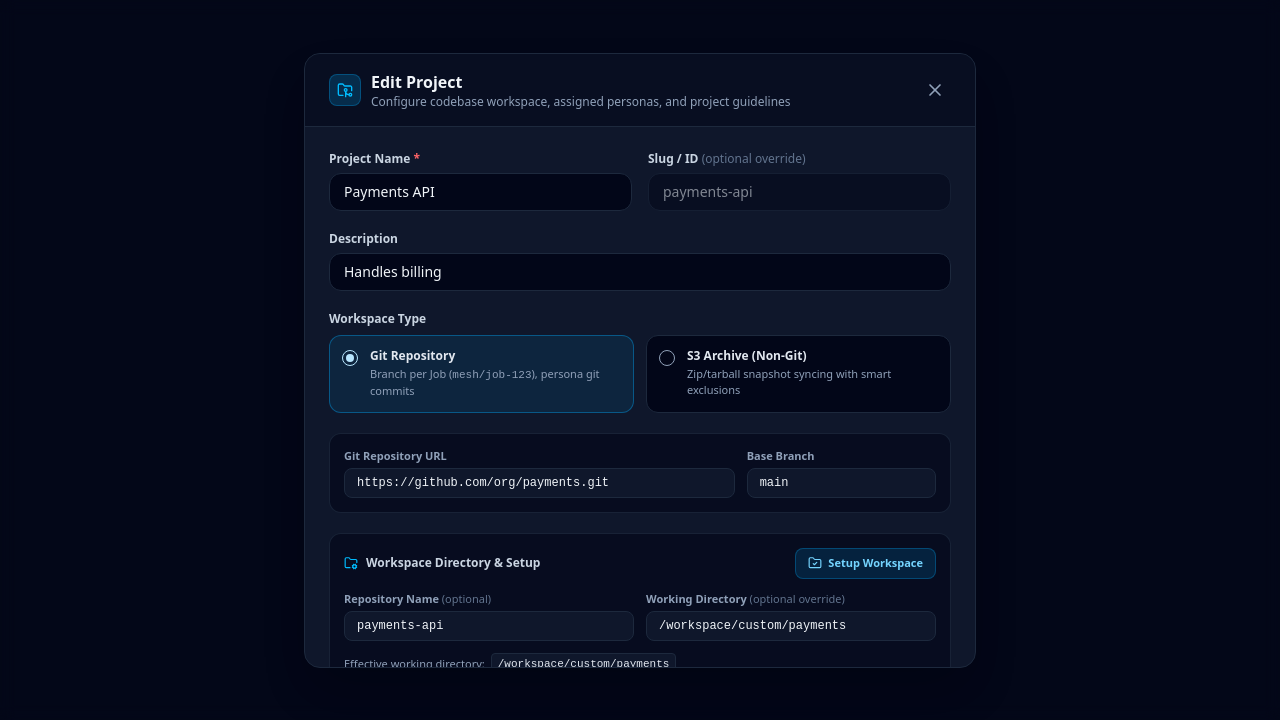
Test: ProjectModal workspace fields & setup action › runs setup workspace action for an existing project without submitting the form and displays result
Click the button with test id "setup-project-workspace-btn": click(866, 563) [795,548,936,578]
(page scrolled)
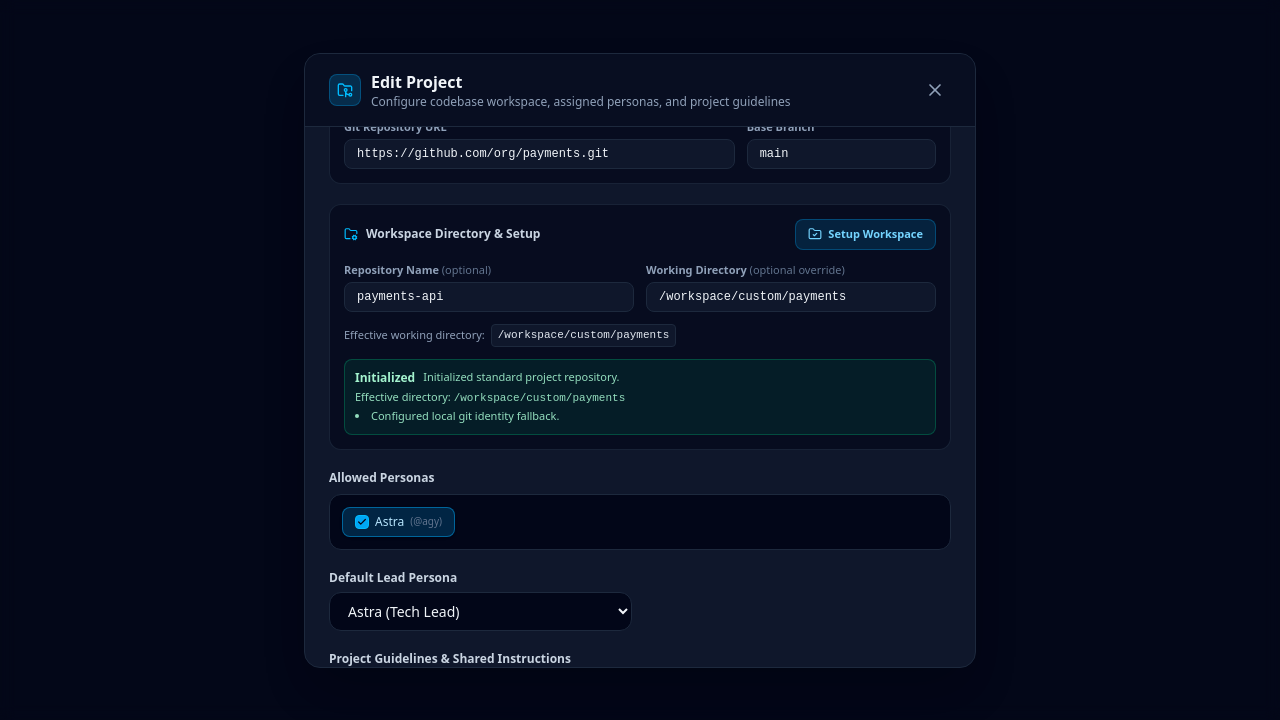
Now the element with test id "project-workspace-setup-result" shows "Initialized", box [355,368,415,386]
Now the element with test id "project-workspace-setup-result" shows "Initialized standard project repository.", box [423,369,620,384]
Now the element with test id "project-workspace-setup-result" shows "/workspace/custom/payments", box [454,392,625,404]
